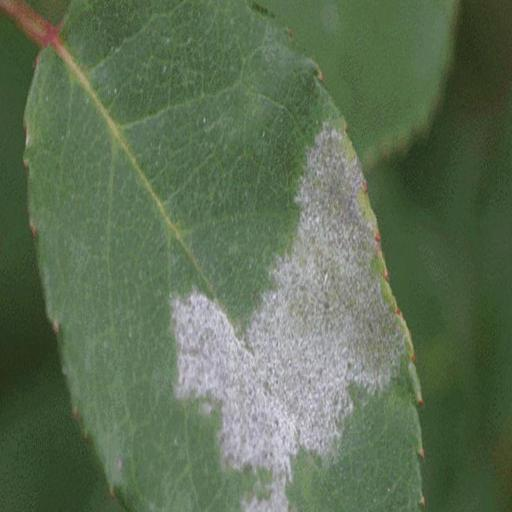powdery_mildew: (24, 0, 422, 512)
